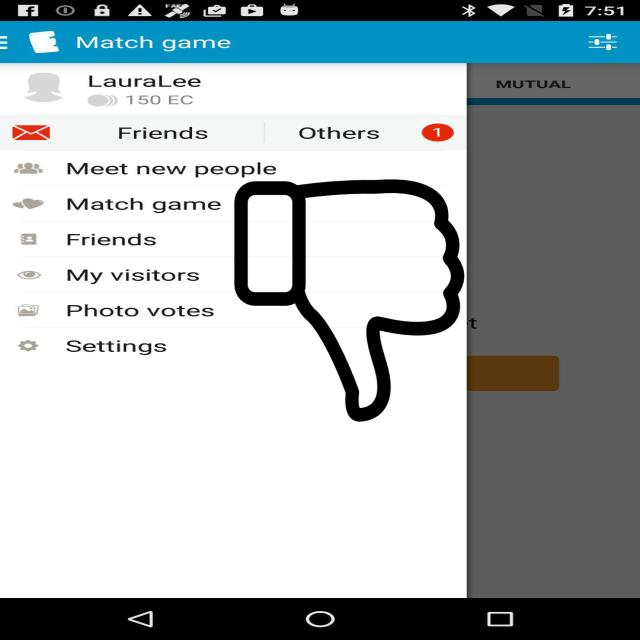obstruction: (231, 179, 468, 422)
